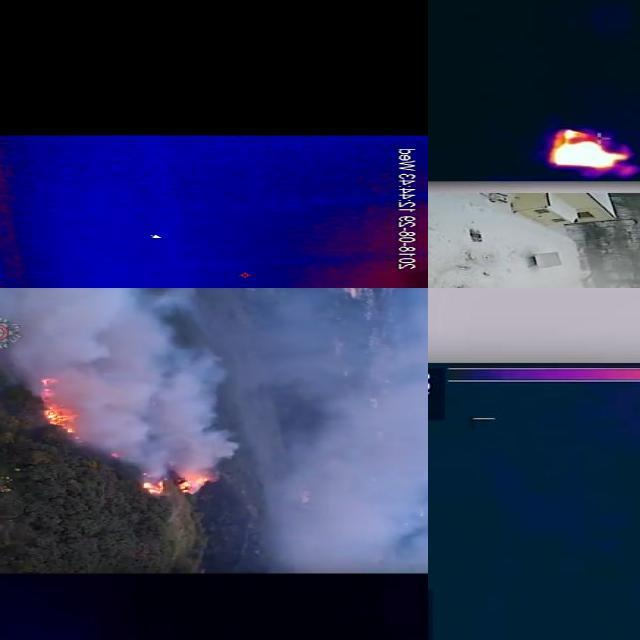fire: (549, 129, 633, 170)
